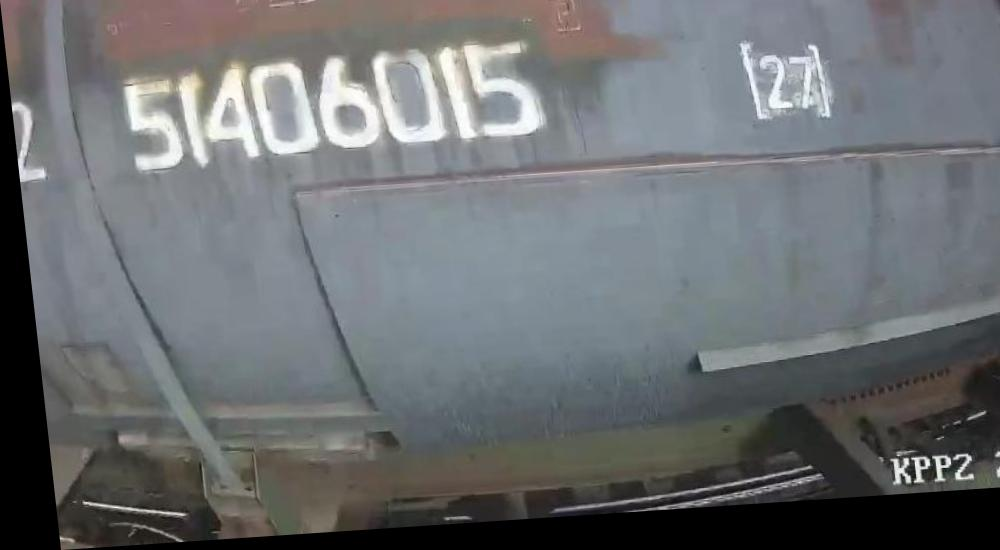Wagon-number: (105, 42, 555, 180)
